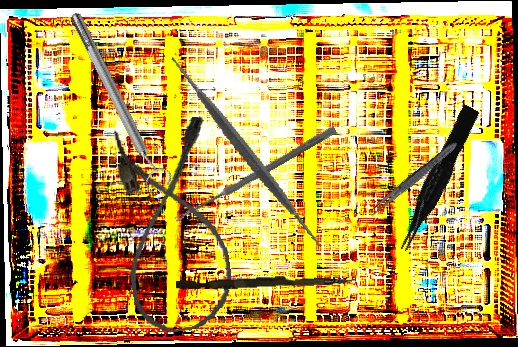Cannula: (109, 115, 239, 337)
Dressing Forceps: (367, 138, 460, 220)
Fixation Ring: (62, 6, 175, 196)
Pusher: (175, 271, 357, 293)
Spatula Surgical: (136, 41, 356, 261)
Surgical Spoon: (174, 124, 337, 225)
Tissue Forceps: (388, 104, 486, 253)
